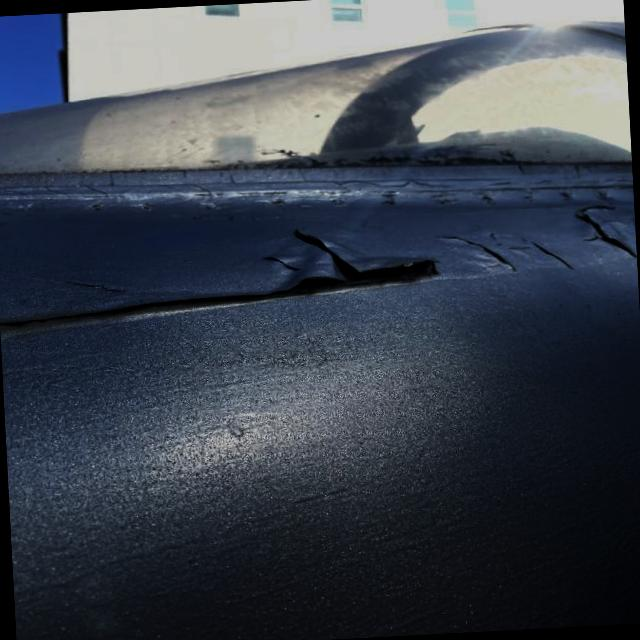crack: (440, 226, 572, 286), (268, 253, 338, 277), (68, 277, 122, 298)
